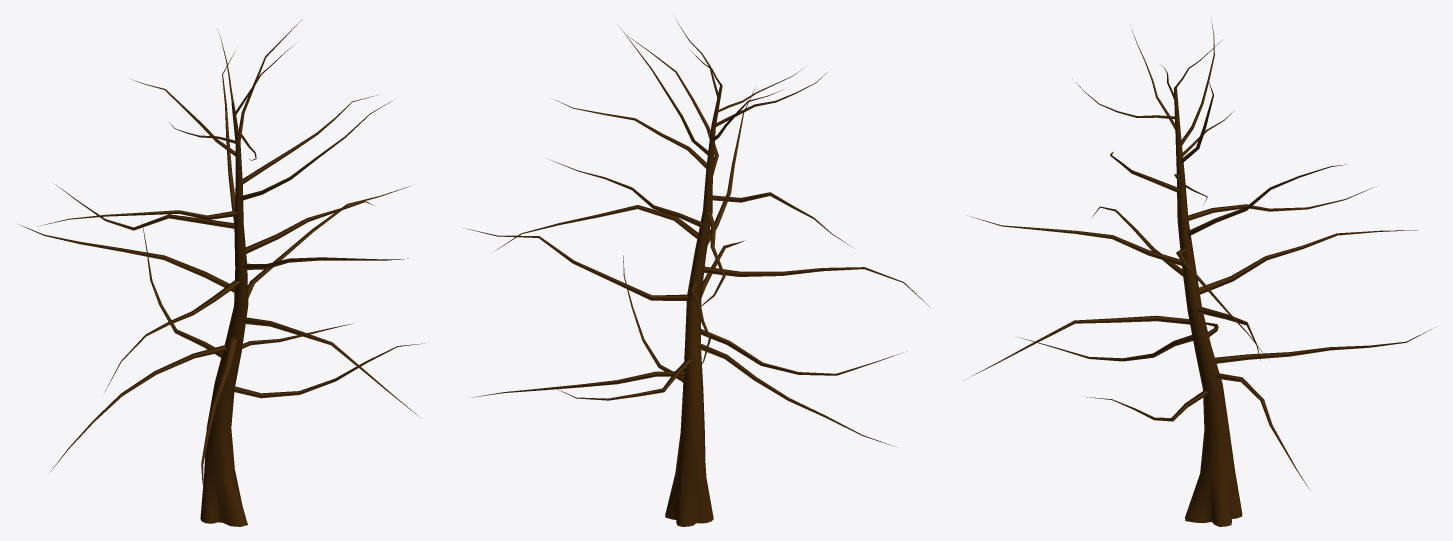
File: Tree.FBX
3 views of the same model, side by side, from view 1: azimuth 30°, elevation 25°; view 2: azimuth 150°, elevation 25°; view 3: azimuth 270°, elevation 25° (orthographic). The views are drawn at different scales.
Parts seen in each view (by area): view 1: Tree1; view 2: Tree1; view 3: Tree1.
Boxes of the visible parts, x1=… form: Tree1: x1=19, y1=19, x2=425, y2=526; Tree1: x1=463, y1=20, x2=930, y2=526; Tree1: x1=963, y1=18, x2=1435, y2=526.
Size of the model in its own units: 9502 by 9663 by 10719.
